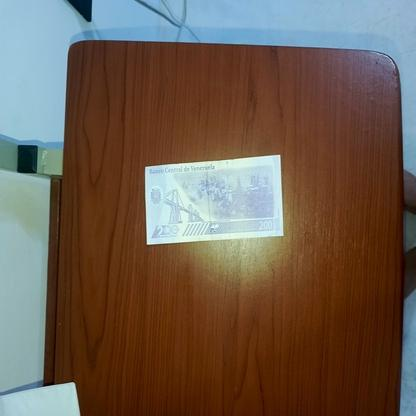two_hundred-back-vef: (144, 154, 284, 244)
